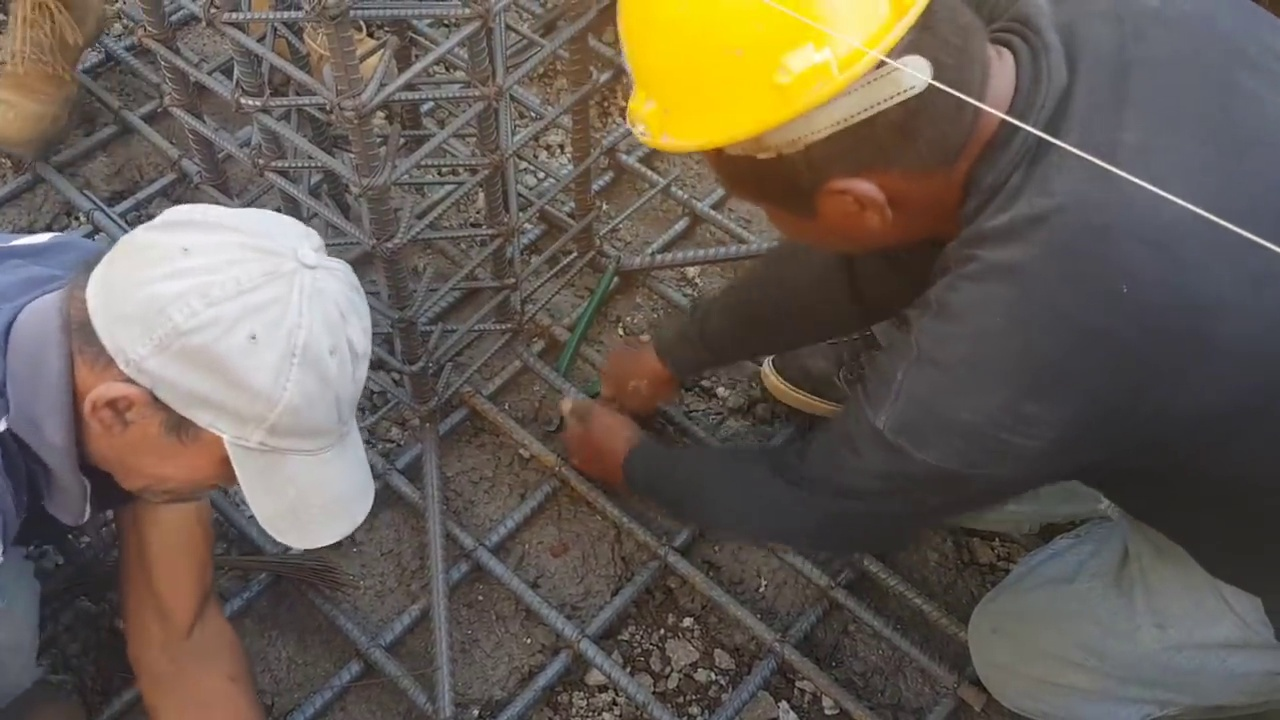helmet: (602, 0, 937, 162)
helmet-off: (43, 193, 378, 533)
helmet-on: (602, 0, 1037, 262)
person: (559, 2, 1280, 719), (0, 189, 387, 719)
